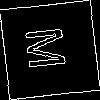M: (25, 24, 76, 71)
